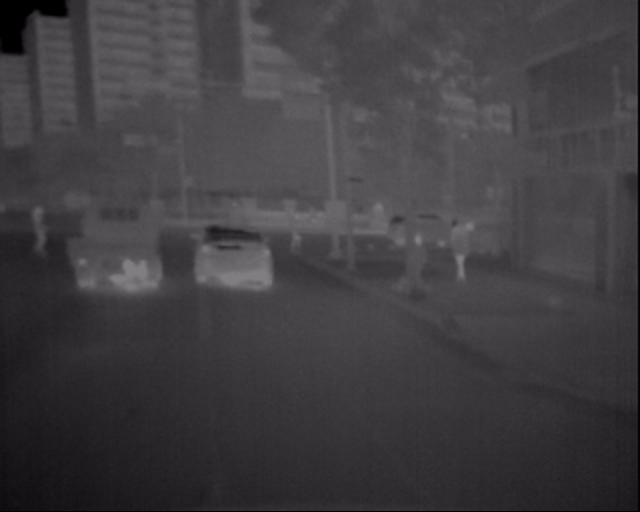person: (439, 204, 475, 296), (15, 205, 57, 266), (289, 210, 309, 251)
